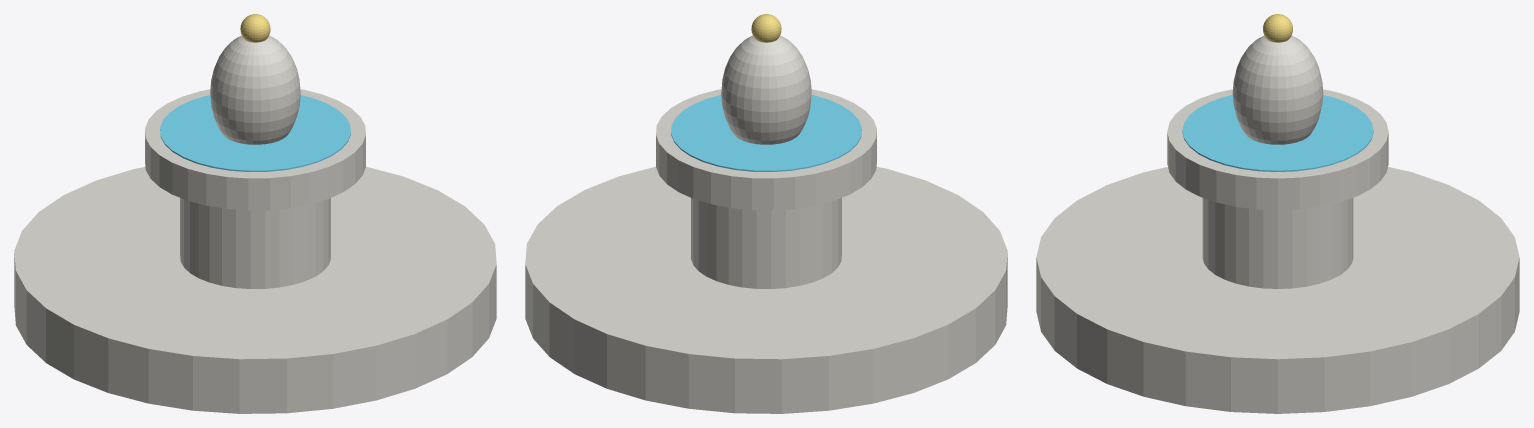
Rendered from fountain_01.glb.
3 renders of one model, left to right at view 1: azimuth 30°, elevation 25°; view 2: azimuth 150°, elevation 25°; view 3: azimuth 270°, elevation 25°, orthographic.
Visible parts, largest first — view 1: Fountain_01; view 2: Fountain_01; view 3: Fountain_01.
Part boxes in pixels (x1,y1,x2,y2): Fountain_01: (14, 14, 496, 413); Fountain_01: (525, 14, 1007, 413); Fountain_01: (1036, 14, 1519, 413).
Size of the model in its own units: 4.8 by 3.25 by 4.8.
